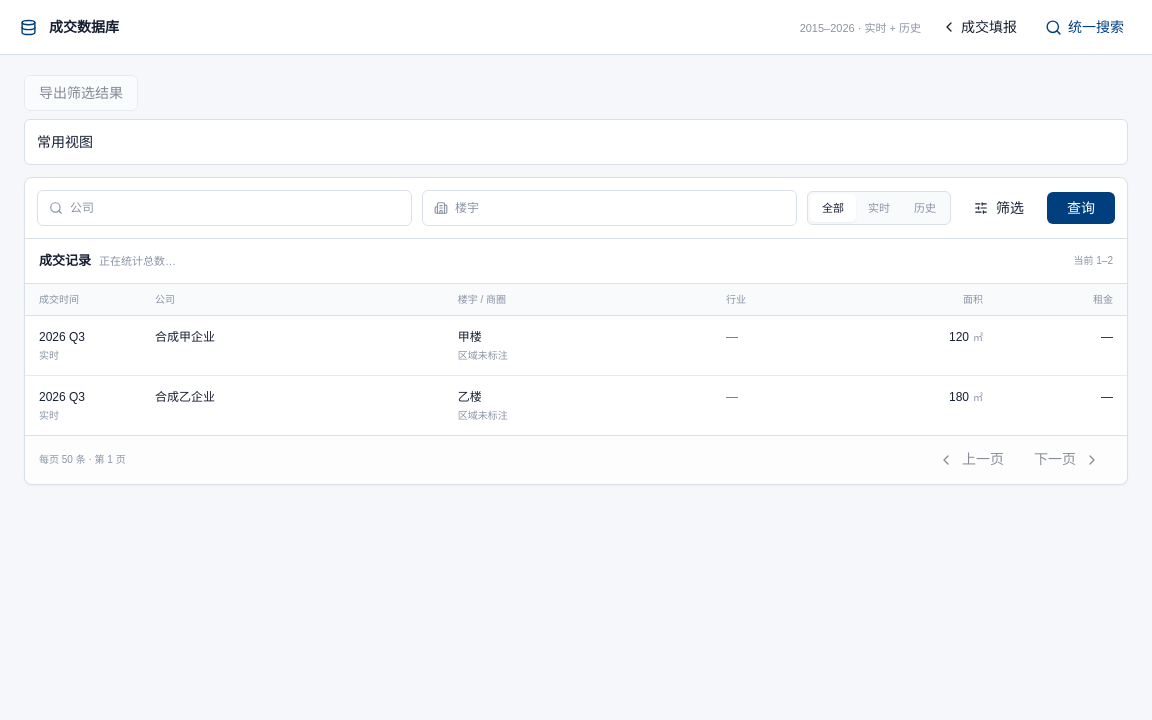
it: keeps the first records actionable, retries count alone, and ignores a late count after a newer search
The width and height of the screenshot is (1152, 720).
Click the text "合成甲企业" at [185, 336], box [155,330,215,344]
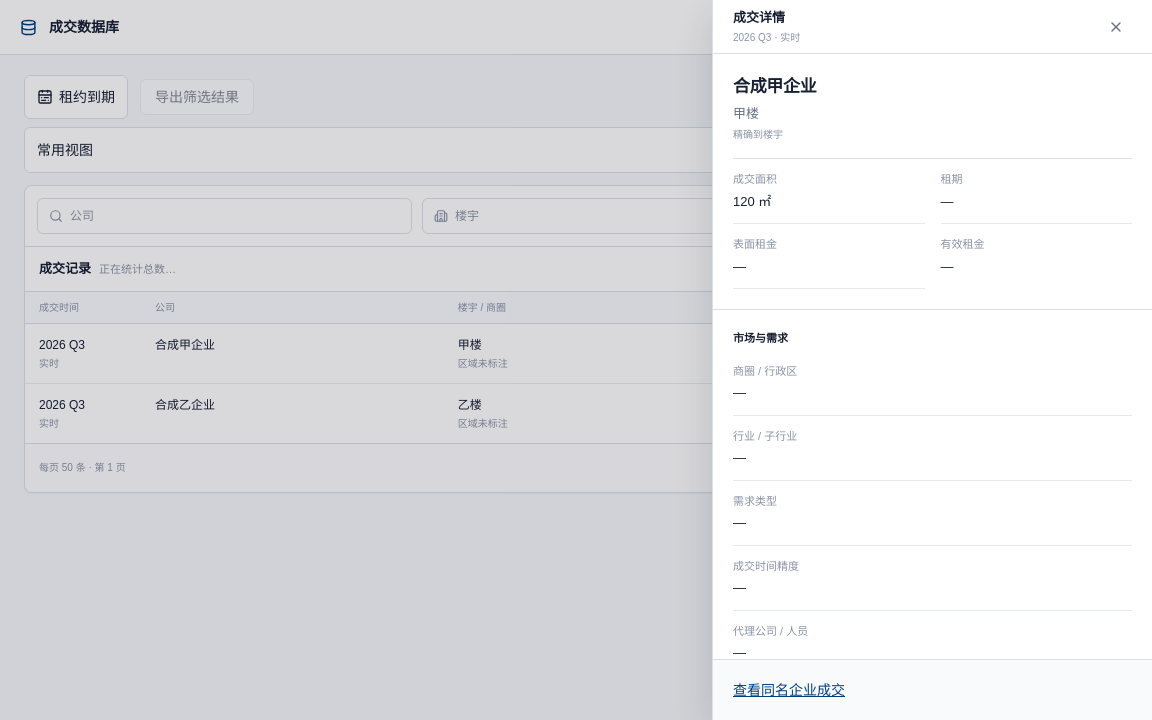
Expected: the text "正在统计总数…" is shown, [99,261,176,278]
Result: the dialog "成交详情" is shown at [712,0,1151,719]
Click the button named "关闭" at [1116, 26], box [1100,10,1132,42]
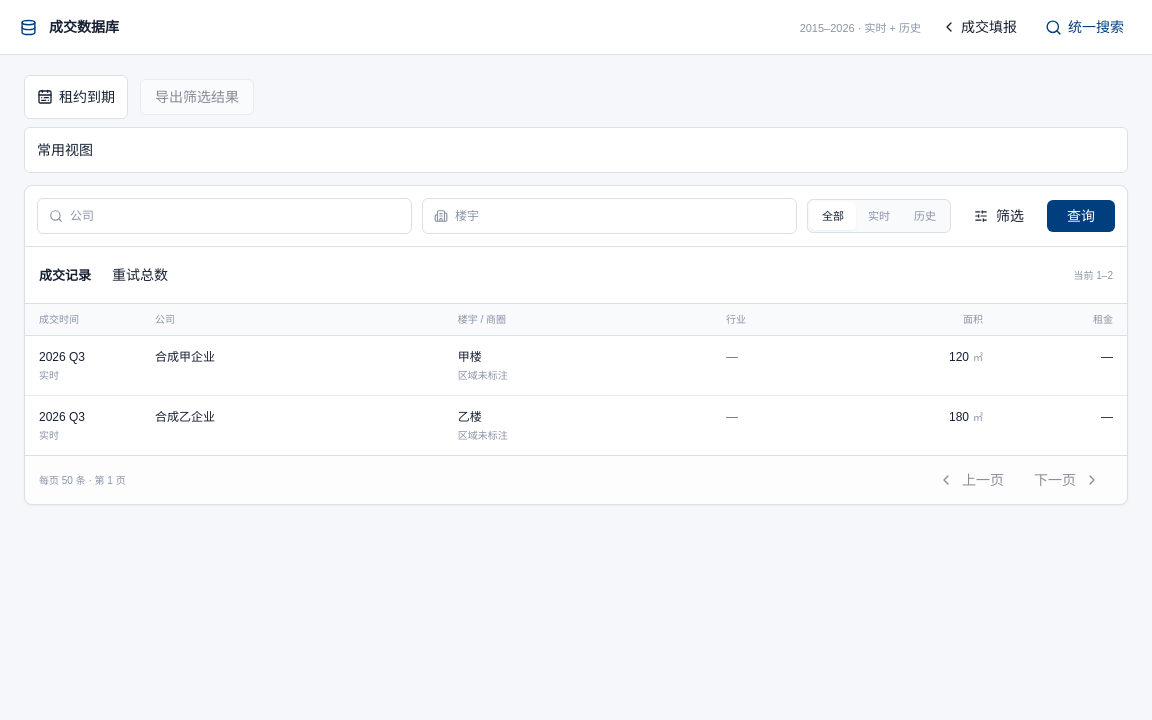
Click the button "重试总数" at [140, 275], box [99,259,181,291]
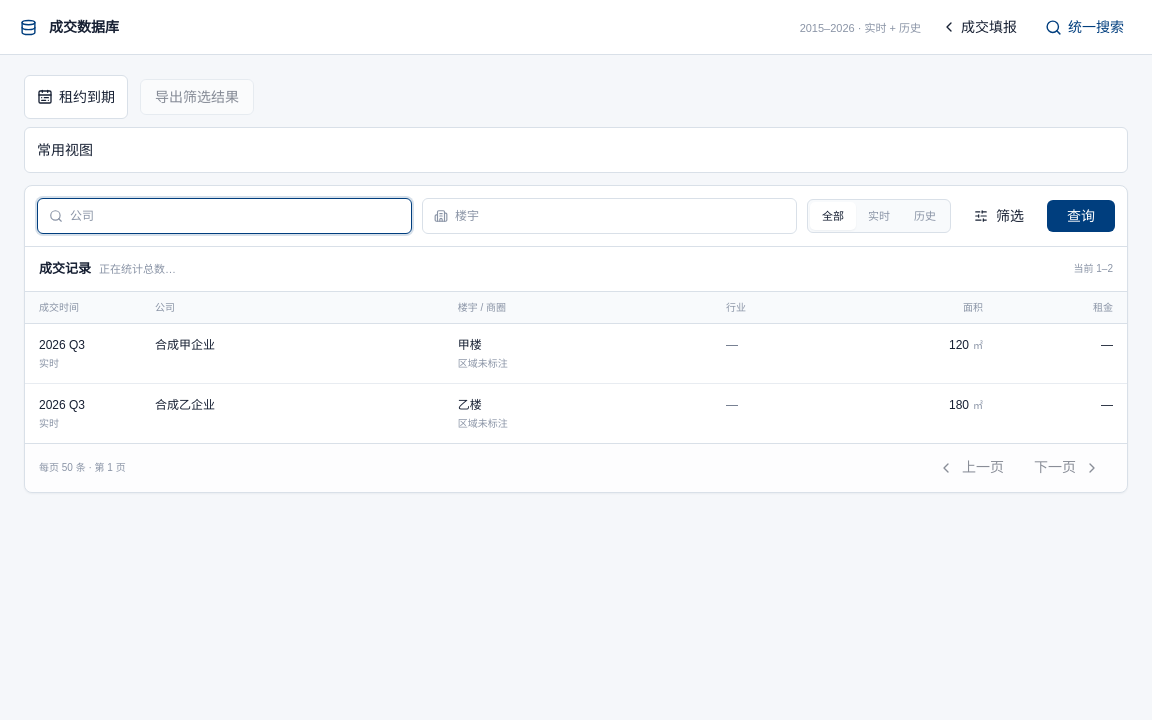
Type "乙" into the field named "搜索公司名称" at [224, 216], box [37,198,412,234]
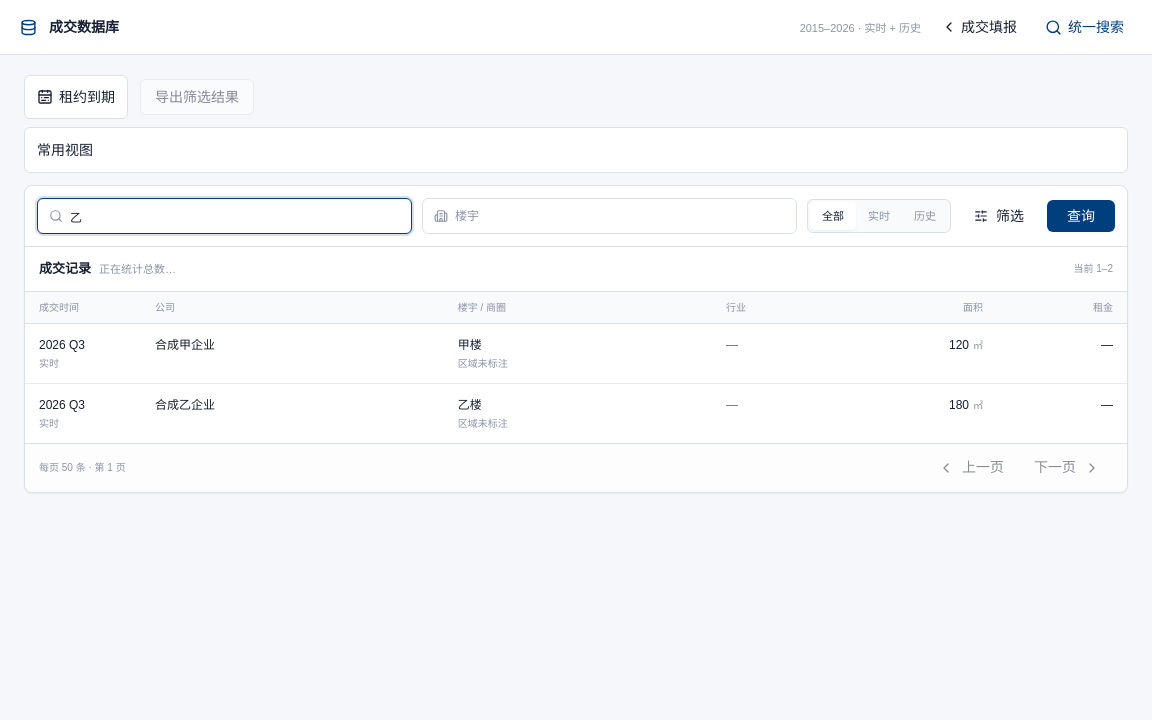
Submit the form named "搜索公司名称", box [25,186,1127,247]
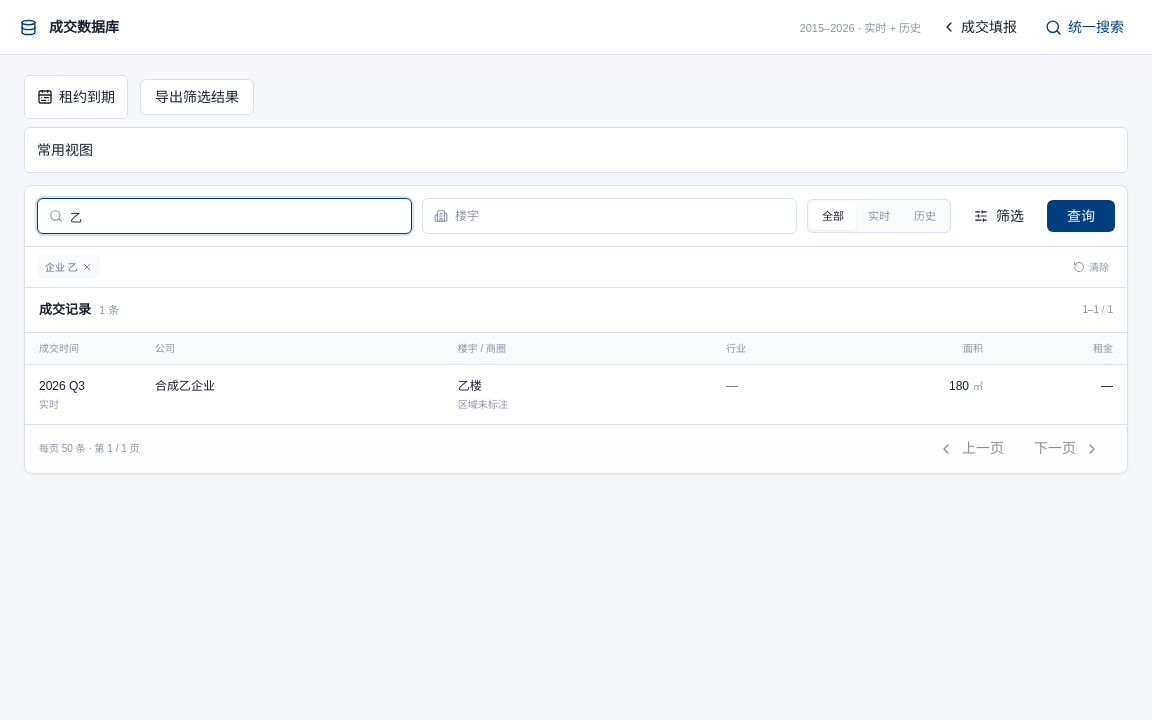
Expected: the text "合成乙企业" is shown, [155,378,215,392]
Result: the button "合成甲企业" is gone
Result: the text "1 条" is shown at [99,302,119,318]
